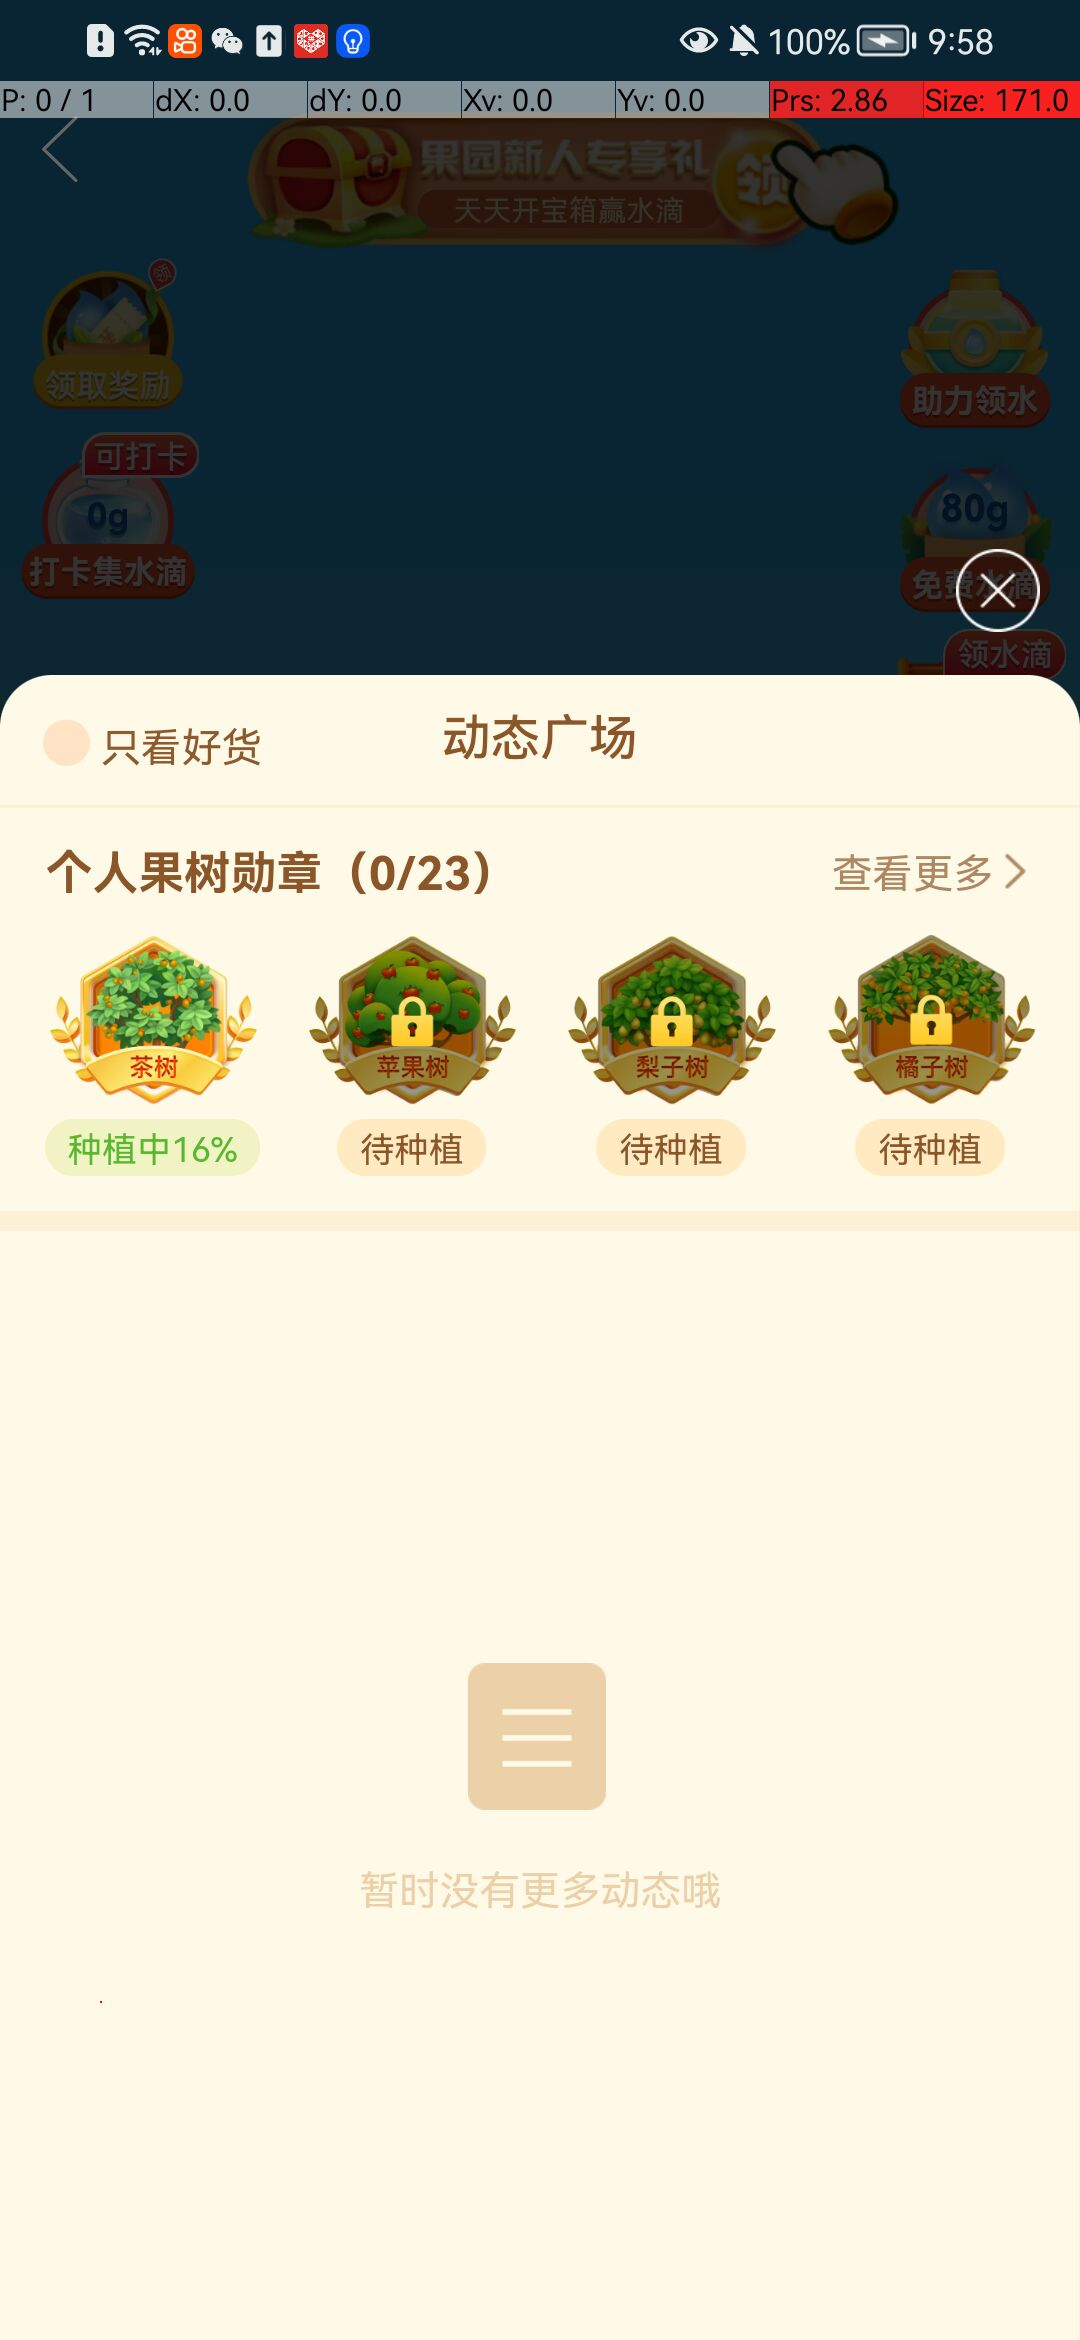popup: (958, 558, 1046, 624)
